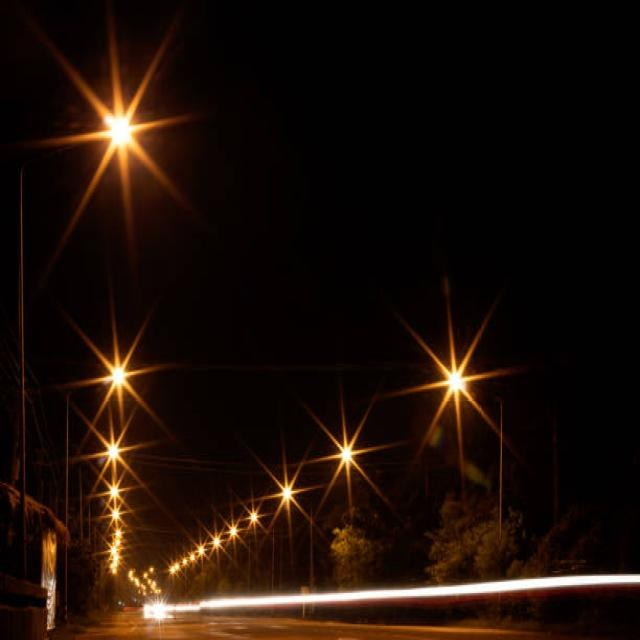acesa: (72, 58, 157, 190), (422, 324, 489, 429), (86, 333, 143, 414), (320, 421, 370, 492), (93, 420, 138, 483), (265, 464, 308, 522)
